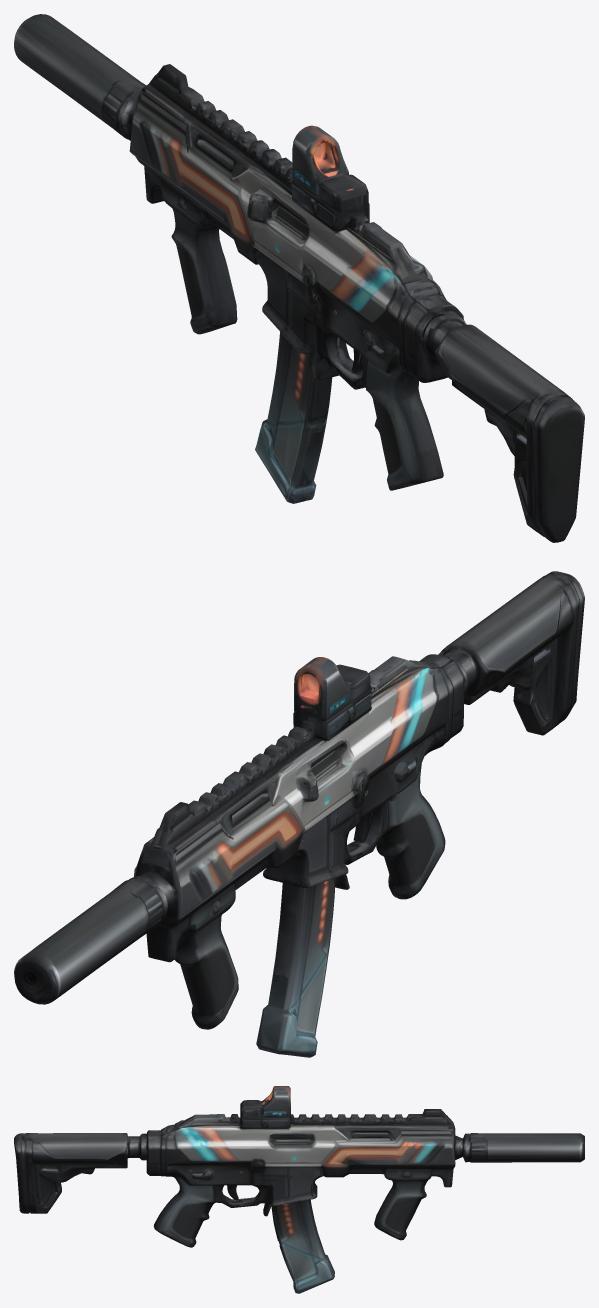
3 views of the same model, one above another, from view 1: azimuth 30°, elevation 25°; view 2: azimuth 150°, elevation 25°; view 3: azimuth 270°, elevation 25° (orthographic). The views are drawn at different scales.
Parts seen in each view (by area): view 1: gun_smg; view 2: gun_smg; view 3: gun_smg.
Boxes of the visible parts, <box> form: gun_smg: <box>14,14,584,542</box>; gun_smg: <box>14,571,584,1057</box>; gun_smg: <box>14,1086,584,1293</box>.
Bounding box in the file's own units: 0.0781 × 0.4646 × 1.18.
Materials: 1 (1 with a texture image).
